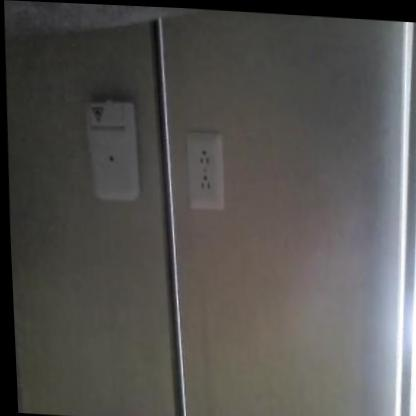OUTLET: (182, 129, 227, 211)
